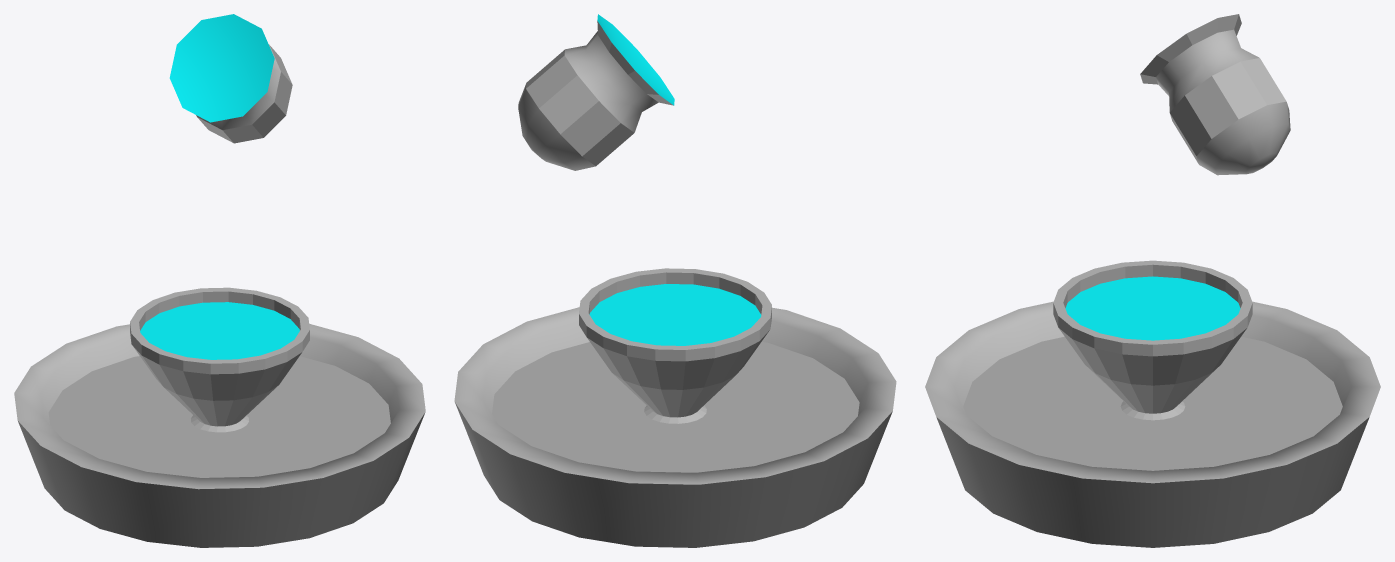
The model's file is Revival.fbx.
3 renders of one model, left to right at view 1: azimuth 30°, elevation 25°; view 2: azimuth 150°, elevation 25°; view 3: azimuth 270°, elevation 25°, orthographic. The views are drawn at different scales.
Parts seen in each view (by area): view 1: pCylinder3, pCylinder4; view 2: pCylinder3, pCylinder4; view 3: pCylinder3, pCylinder4.
Boxes of the visible parts, box(x1,y1,x2,y2) form: pCylinder3: box(14, 14, 425, 547); pCylinder4: box(48, 356, 390, 477); pCylinder3: box(454, 14, 896, 547); pCylinder4: box(492, 342, 859, 472); pCylinder3: box(925, 14, 1380, 547); pCylinder4: box(963, 336, 1342, 470).
Bounding box in the file's own units: 7.95 × 9.04 × 7.95.
